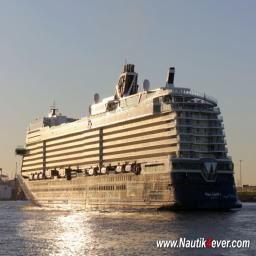cruises: (15, 58, 247, 221)
